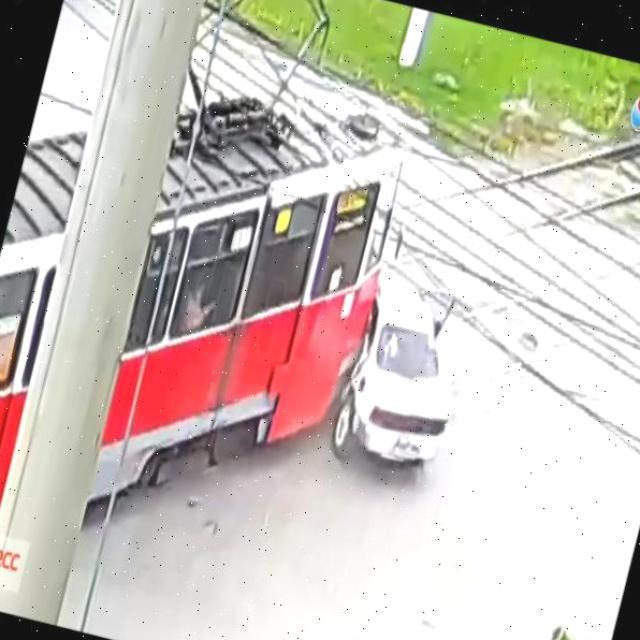accident: (0, 38, 516, 640)
